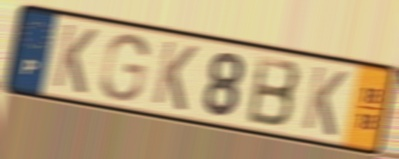8: (203, 50, 246, 118)
B: (244, 52, 303, 131)
G: (98, 32, 151, 103)
K: (49, 20, 101, 97), (299, 62, 351, 139), (149, 37, 201, 114)
